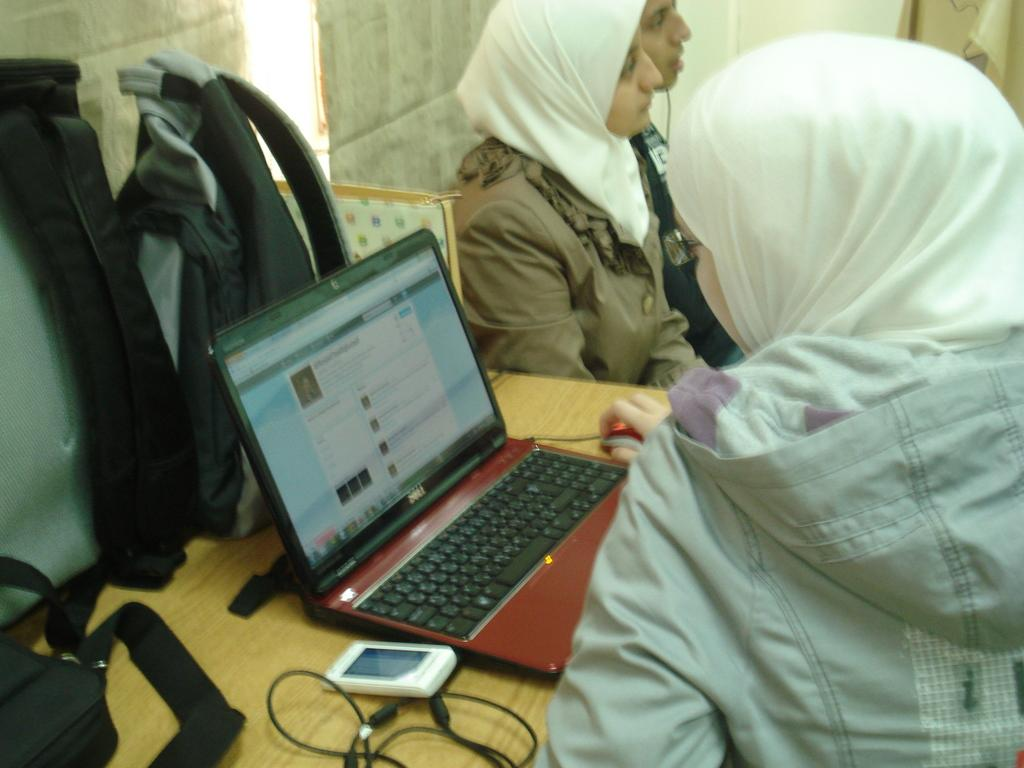Computer-keyboard: (353, 451, 628, 639)
